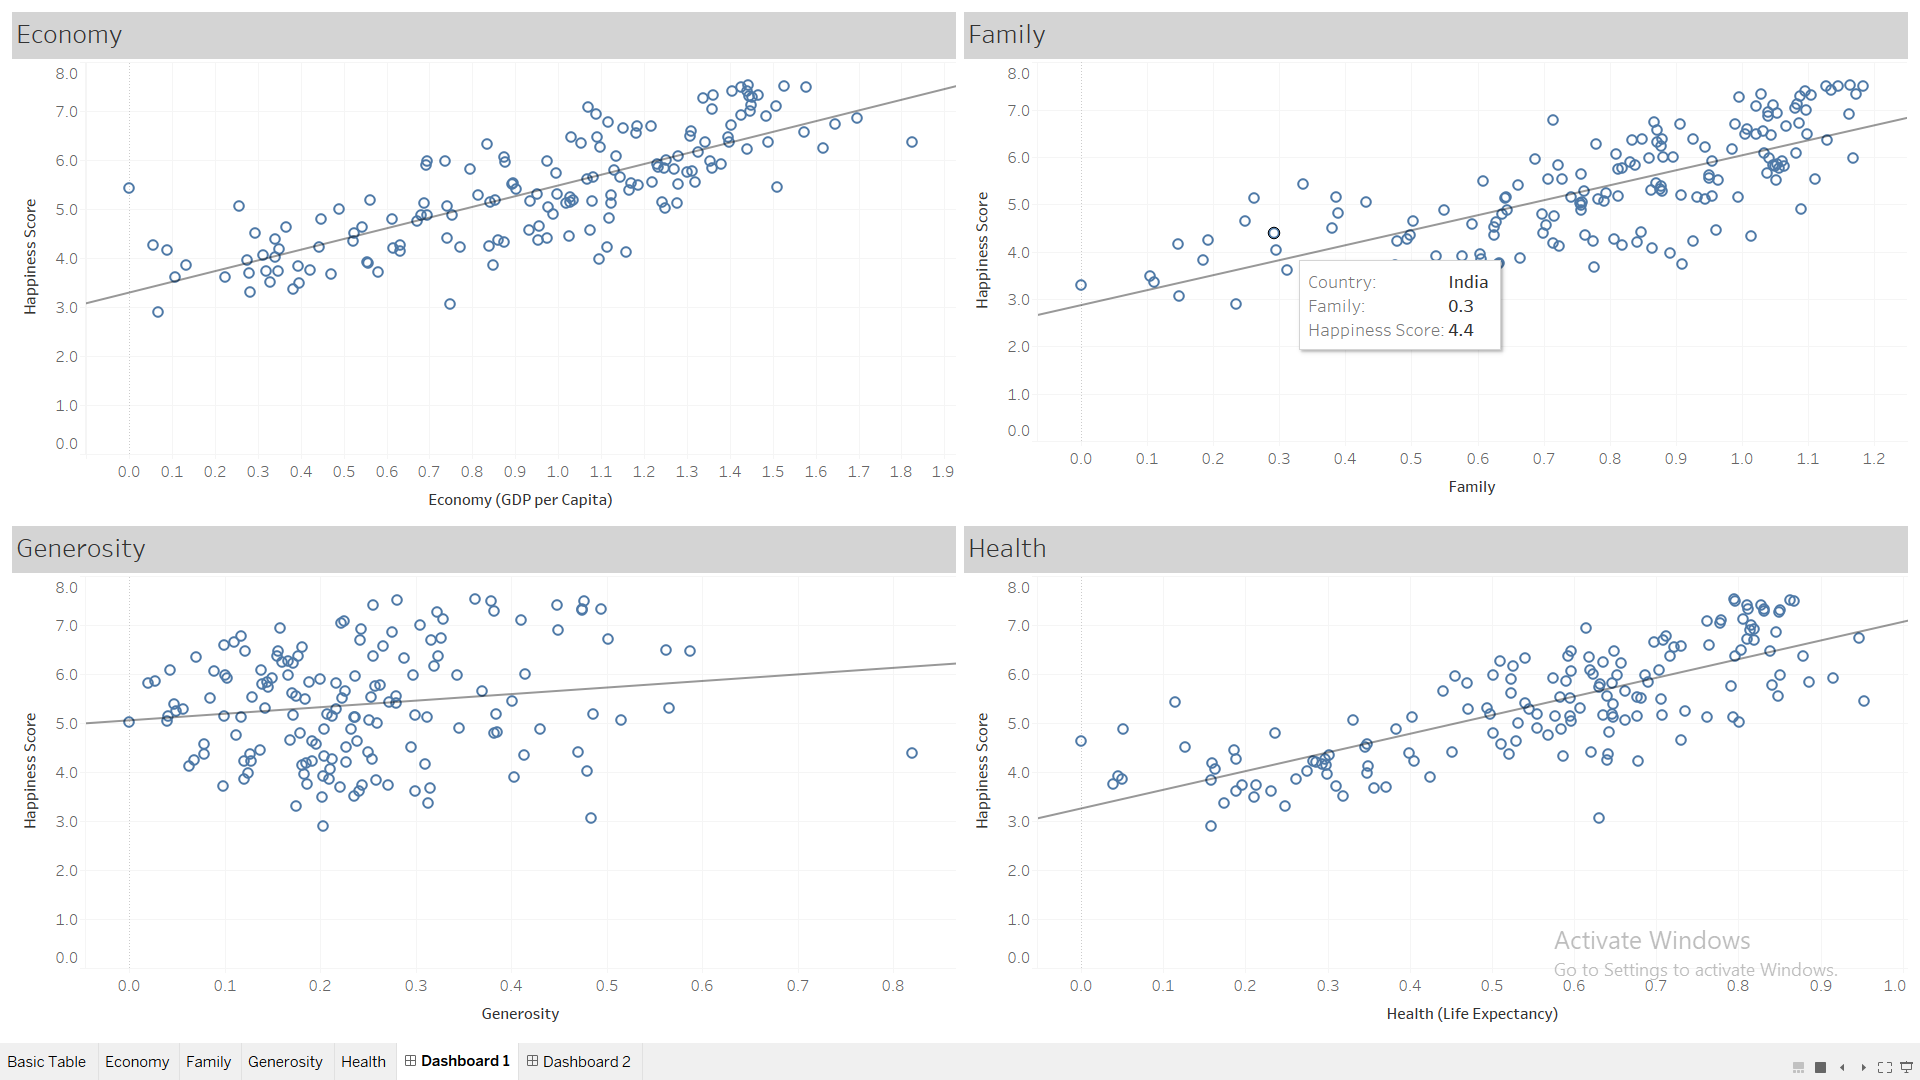

What the dashboard file says about the page in this screenshot:
{"tool":"tableau","page":{"name":"Dashboard 1","canvas":[1000,800],"ordinal":0},"visuals":[{"type":"worksheet","box":[0,0,1000,800]},{"type":"worksheet","title":"Economy","mark":"Automatic","rows":["Happiness Score"],"cols":["Economy (GDP per Capita)"],"box":[8,8,492,392]},{"type":"worksheet","title":"Family","mark":"Automatic","rows":["Happiness Score"],"cols":["Family"],"box":[500,8,492,392]},{"type":"worksheet","title":"Generosity","mark":"Automatic","rows":["Happiness Score"],"cols":["Generosity"],"box":[8,400,492,392]},{"type":"worksheet","title":"Health","mark":"Automatic","rows":["Happiness Score"],"cols":["Health (Life Expectancy)"],"box":[500,400,492,392]}]}

Visuals, with their boxes on the page's 1000x800 design canvas (x1, y1, x2, y2). These are canvas units, not pixel positions in the 1920x1080 screenshot, which may show the page scaled, cropped or inside an application window:
worksheet: [0,0,1000,800]
"Economy" worksheet: [8,8,500,400]
"Family" worksheet: [500,8,992,400]
"Generosity" worksheet: [8,400,500,792]
"Health" worksheet: [500,400,992,792]
